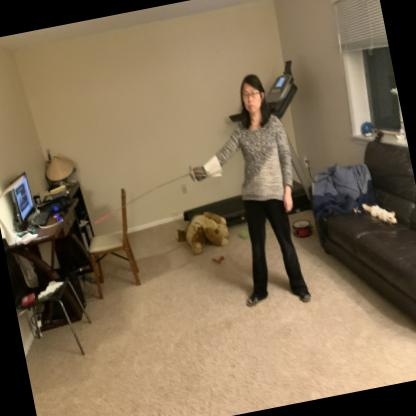foil-tip: (86, 214, 107, 234)
hand-and-foil: (68, 154, 231, 244)
